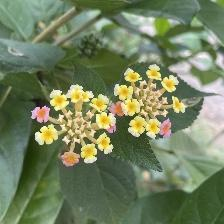common lanthana: (31, 83, 119, 169)
